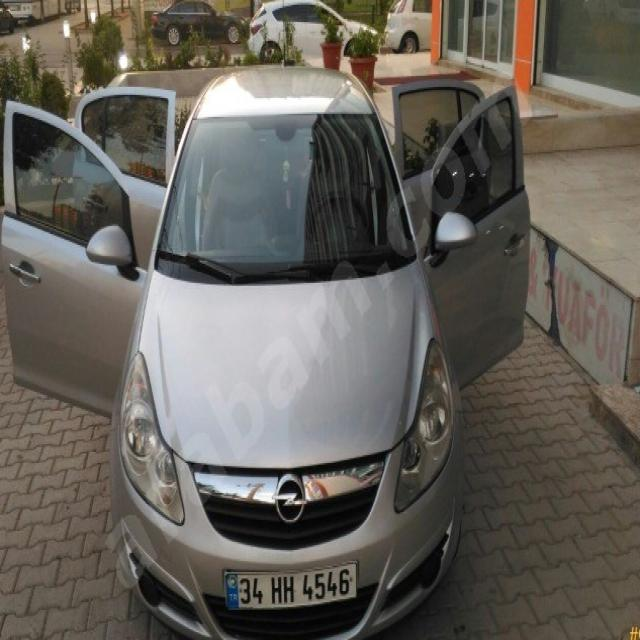license_plate: (225, 560, 358, 611)
